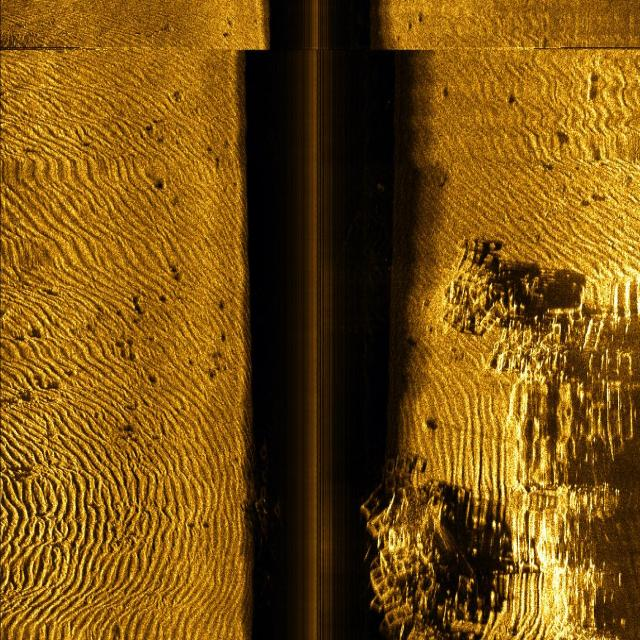artificial reef: (355, 446, 478, 636), (434, 225, 575, 389), (256, 441, 290, 574)
